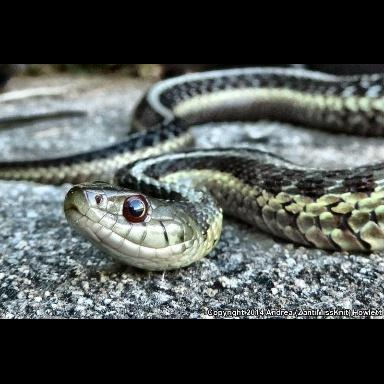snake: (63, 66, 384, 272)
